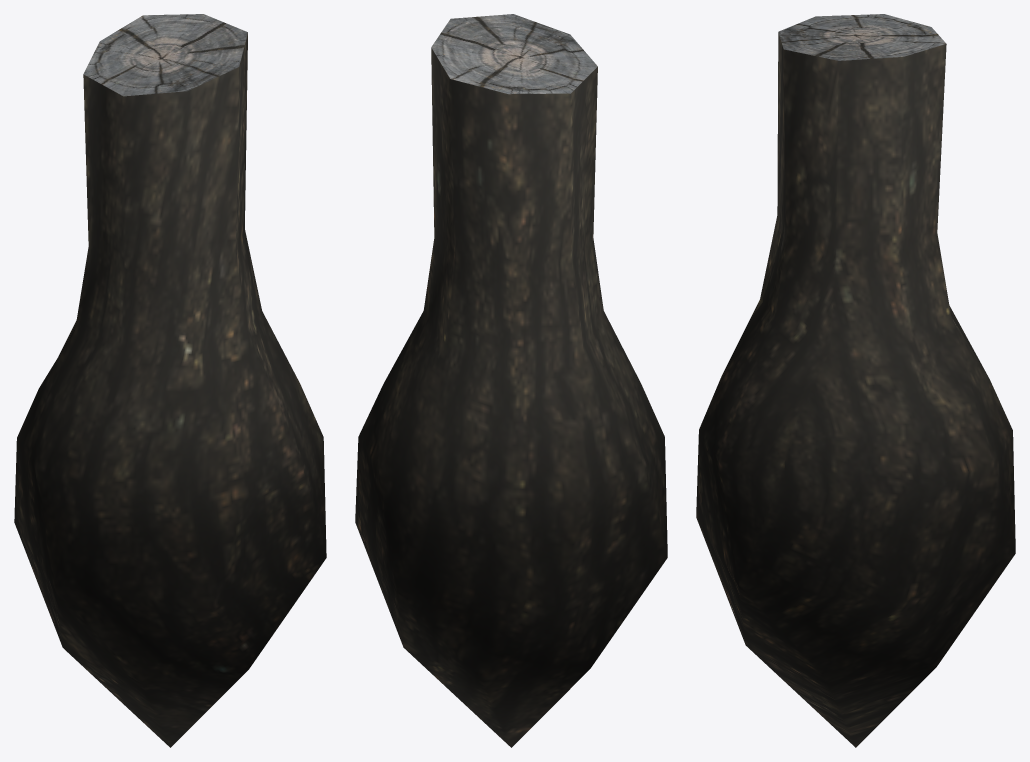
File: MSH_Tree_Stump_Short_01.fbx
3 views of the same model, side by side, from view 1: azimuth 30°, elevation 25°; view 2: azimuth 150°, elevation 25°; view 3: azimuth 270°, elevation 25° (orthographic). The views are drawn at different scales.
Parts seen in each view (by area): view 1: MSH_Tree_Stump_Short_01_LOD0; view 2: MSH_Tree_Stump_Short_01_LOD0; view 3: MSH_Tree_Stump_Short_01_LOD0.
Boxes of the visible parts, left/top/right/bottom form: MSH_Tree_Stump_Short_01_LOD0: left=14, top=14, right=326, bottom=747; MSH_Tree_Stump_Short_01_LOD0: left=355, top=14, right=667, bottom=747; MSH_Tree_Stump_Short_01_LOD0: left=696, top=14, right=1015, bottom=747.
Size of what is drawn, in the model's own units: 63.19 by 157 by 63.21.
